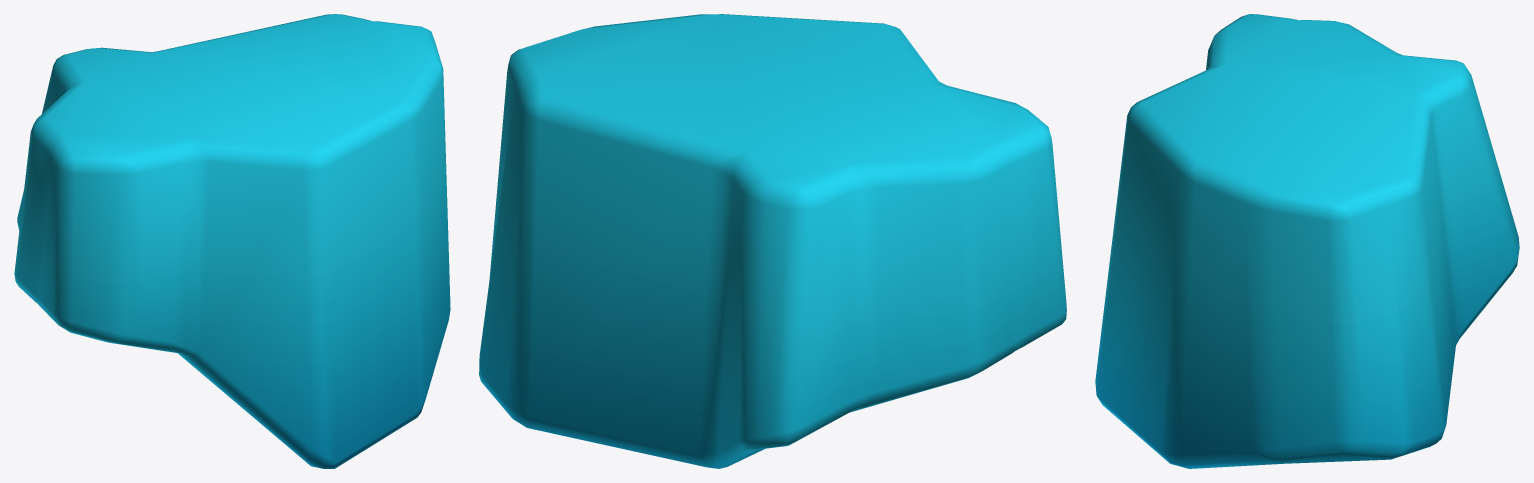
The model's file is Ice_05.fbx.
3 renders of one model, left to right at view 1: azimuth 30°, elevation 25°; view 2: azimuth 150°, elevation 25°; view 3: azimuth 270°, elevation 25°, orthographic. The views are drawn at different scales.
Parts seen in each view (by area): view 1: Ice_05; view 2: Ice_05; view 3: Ice_05.
Boxes of the visible parts, <box> form: Ice_05: <box>14,14,450,468</box>; Ice_05: <box>479,14,1066,468</box>; Ice_05: <box>1095,14,1519,468</box>.
Size of the model in its own units: 712 by 615 by 488.
